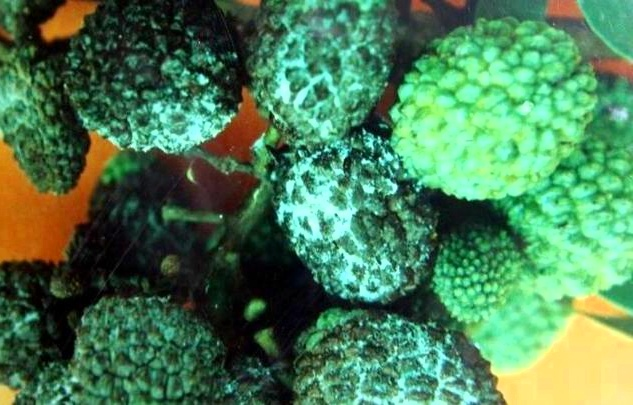Frost_Blight: (287, 147, 389, 300), (251, 10, 383, 118), (309, 323, 476, 401), (129, 51, 236, 142)
